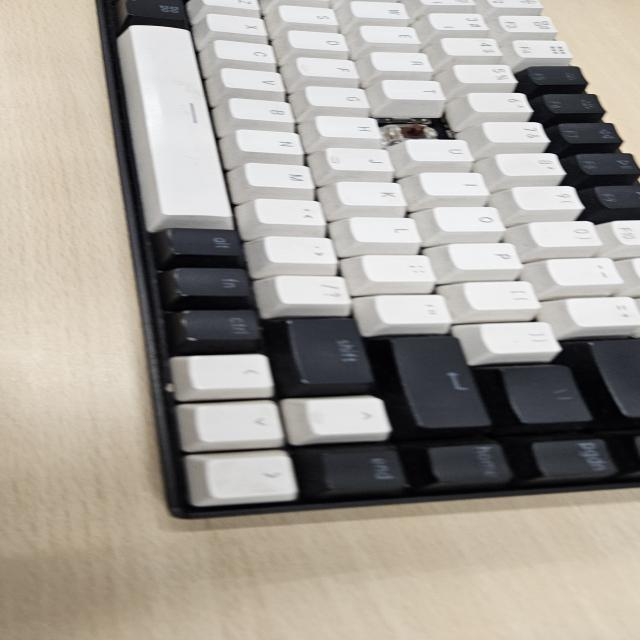C: (392, 111, 442, 146)
